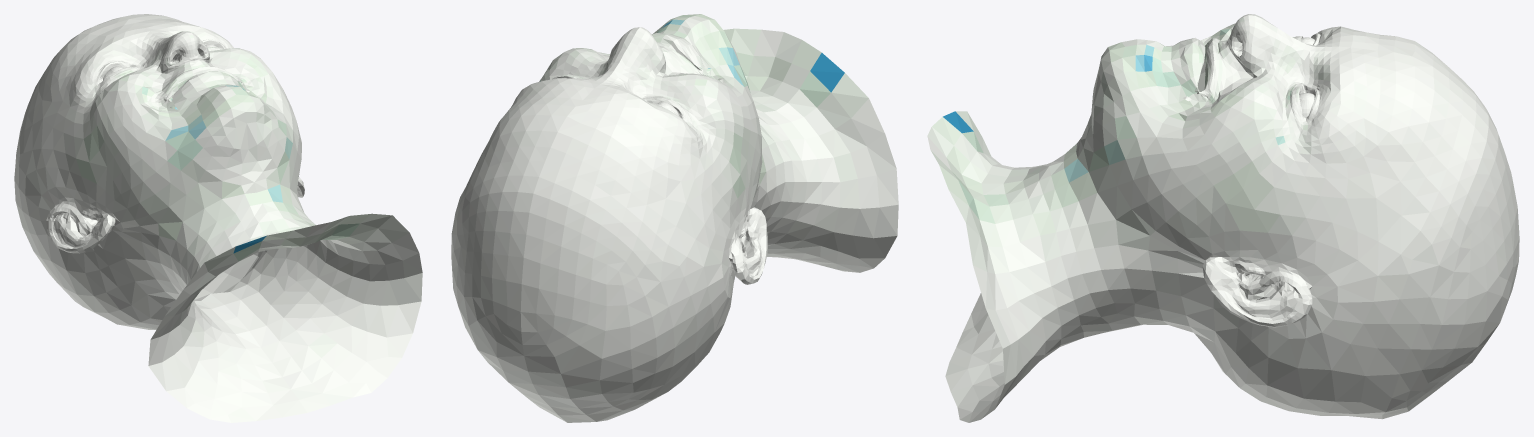
File: comaspiralconv_4.glb
3 renders of one model, left to right at view 1: azimuth 30°, elevation 25°; view 2: azimuth 150°, elevation 25°; view 3: azimuth 270°, elevation 25°, orthographic. The views are drawn at different scales.
Visible parts, largest first — view 1: imagetostl_mesh0; view 2: imagetostl_mesh0; view 3: imagetostl_mesh0.
Boxes of the visible parts, left/top/right/bottom form: imagetostl_mesh0: left=14, top=14, right=422, bottom=422; imagetostl_mesh0: left=451, top=14, right=898, bottom=422; imagetostl_mesh0: left=927, top=14, right=1519, bottom=422.
Size of the model in its own units: 215 by 241 by 325.
